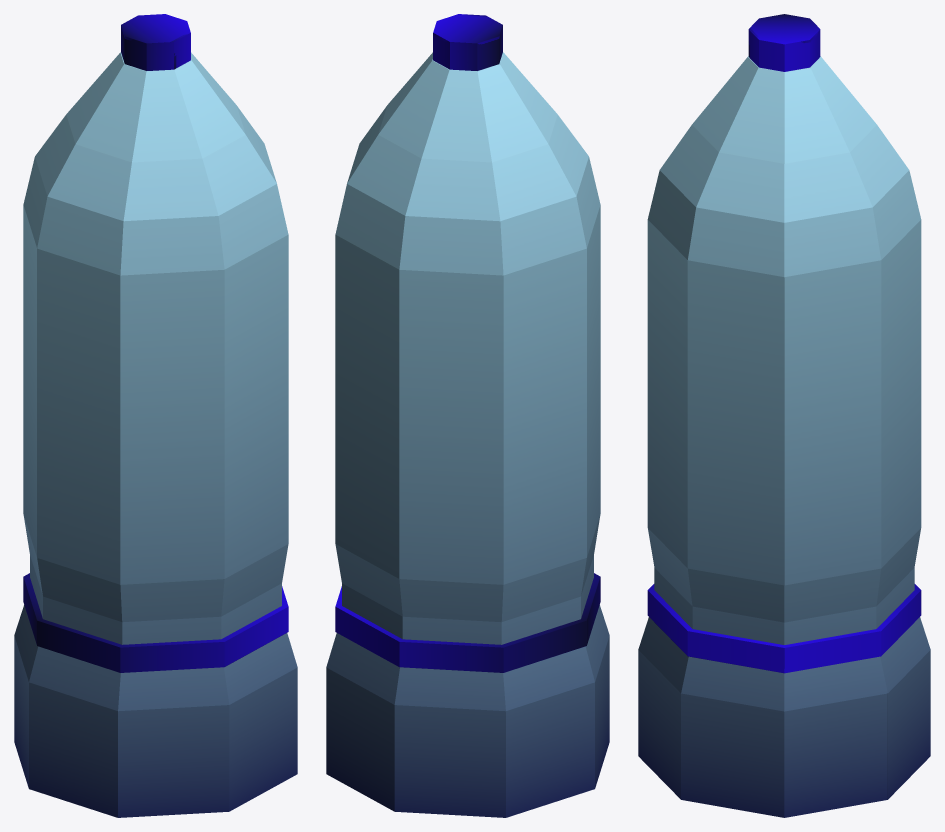
The model's file is Mineral Water.glb.
3 renders of one model, left to right at view 1: azimuth 30°, elevation 25°; view 2: azimuth 150°, elevation 25°; view 3: azimuth 270°, elevation 25°, orthographic.
Visible parts, largest first — view 1: Cylinder, Cylinder.002, Cylinder.001; view 2: Cylinder, Cylinder.002, Cylinder.001; view 3: Cylinder, Cylinder.002, Cylinder.001.
Boxes of the visible parts, x1,y1,x2,y2 form: Cylinder: [14, 52, 297, 817]; Cylinder.002: [23, 573, 288, 672]; Cylinder.001: [121, 14, 190, 70]; Cylinder: [326, 52, 609, 817]; Cylinder.002: [335, 573, 600, 672]; Cylinder.001: [433, 14, 502, 70]; Cylinder: [638, 56, 930, 817]; Cylinder.002: [647, 584, 921, 673]; Cylinder.001: [748, 14, 820, 71].
Size of the model in its own units: 1.22 by 3.35 by 1.22.
Materials: 2 (2 with a texture image).
